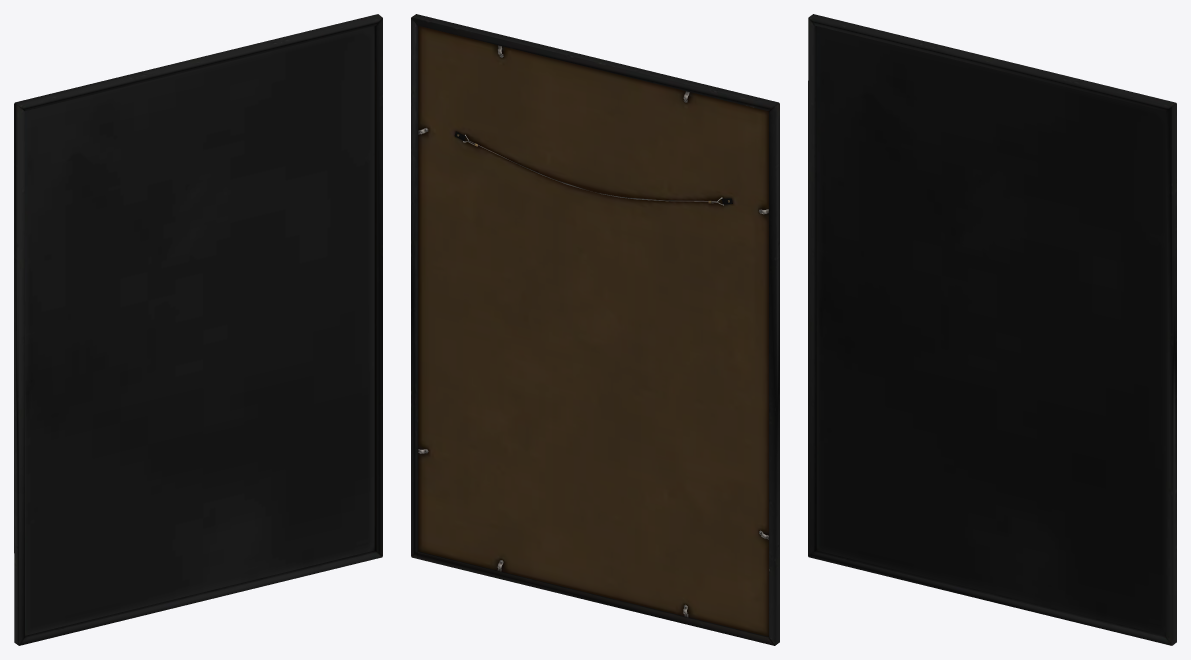
The model's file is hanging_picture_frame_01.glb.
3 views of the same model, side by side, from view 1: azimuth 30°, elevation 25°; view 2: azimuth 150°, elevation 25°; view 3: azimuth 330°, elevation 25° (orthographic).
Visible parts, largest first — view 1: hanging_picture_frame_01; view 2: hanging_picture_frame_01; view 3: hanging_picture_frame_01.
Boxes of the visible parts, x1=… form: hanging_picture_frame_01: x1=14, y1=14, x2=382, y2=645; hanging_picture_frame_01: x1=411, y1=14, x2=779, y2=645; hanging_picture_frame_01: x1=808, y1=14, x2=1176, y2=645.
Size of the model in its own units: 0.5935 by 0.841 by 0.0154.
3 materials, 3 textured.
